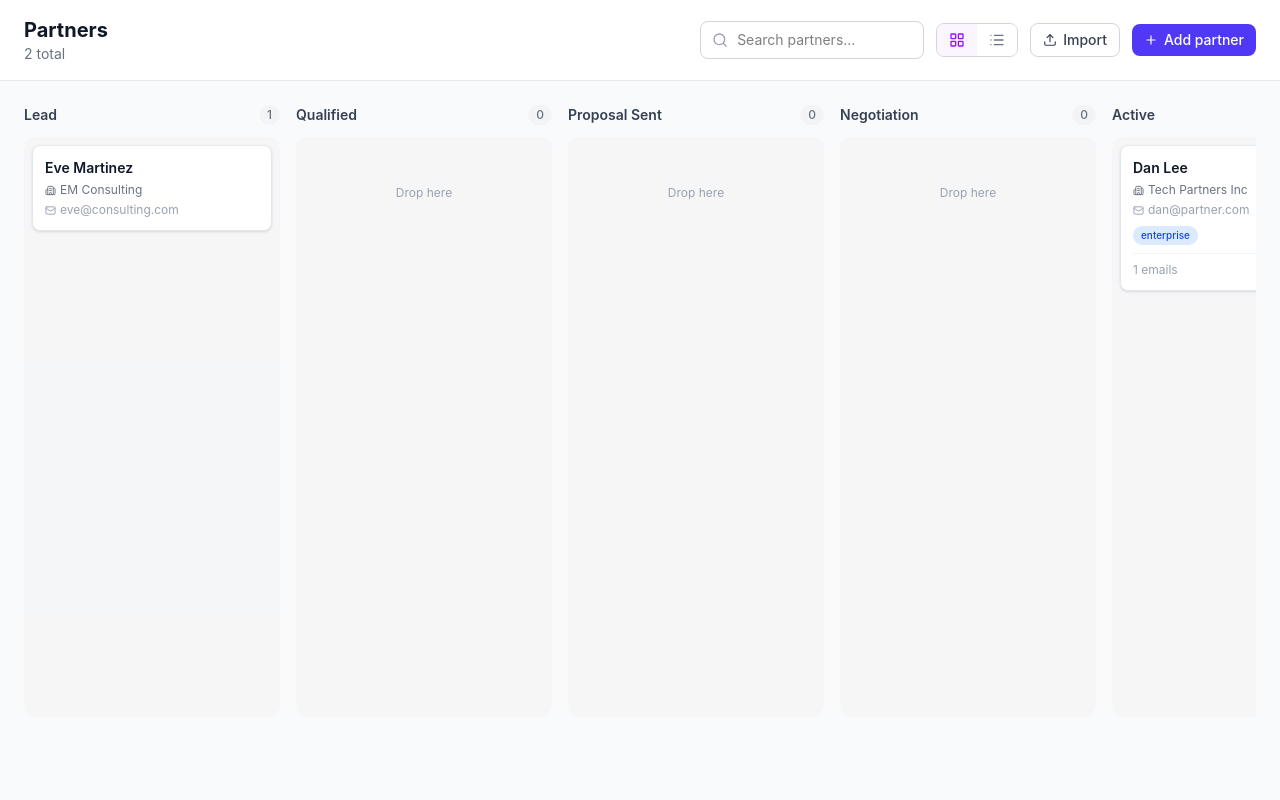
PartnersPage › opens partner detail when clicking row in list view
This screenshot has width=1280, height=800.
Click the button titled "List view".
click(997, 40)  # box [977, 24, 1017, 56]
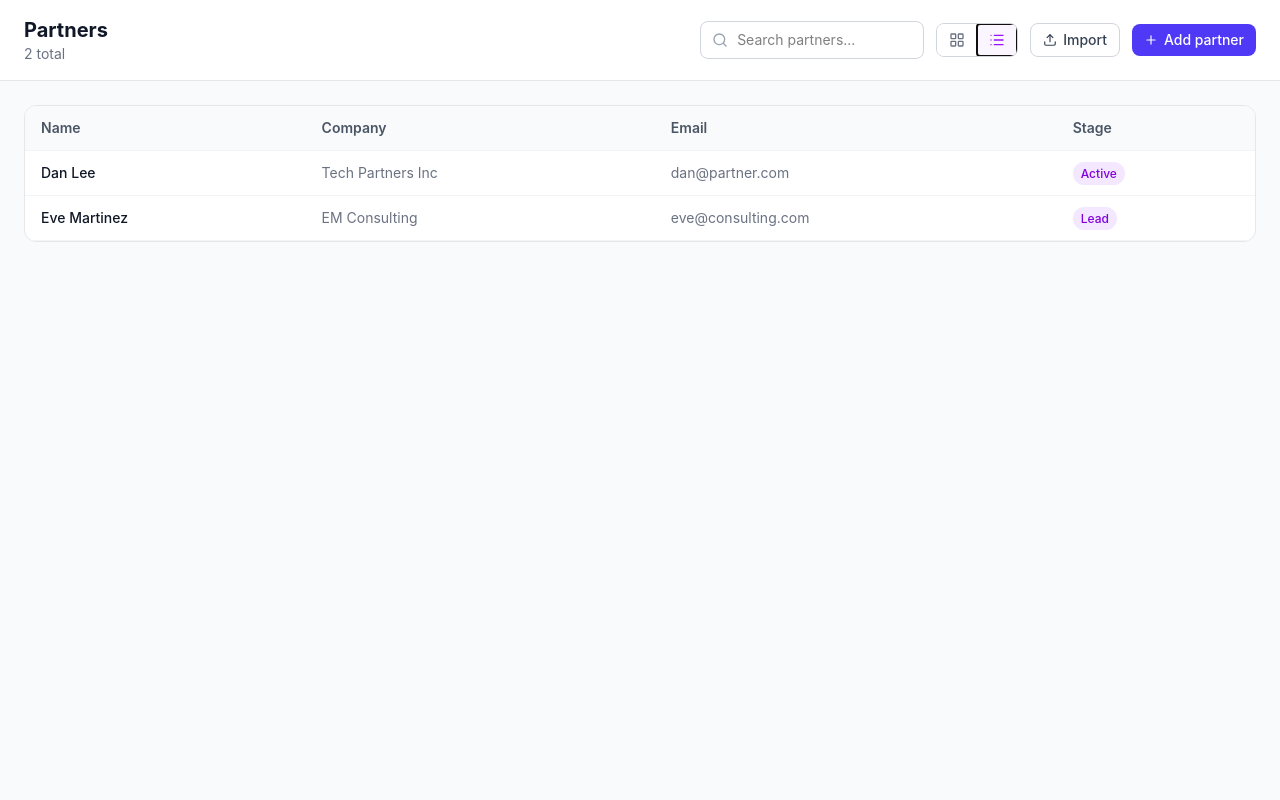
Click the text "Dan Lee".
click(54, 172)  # box [25, 150, 306, 196]
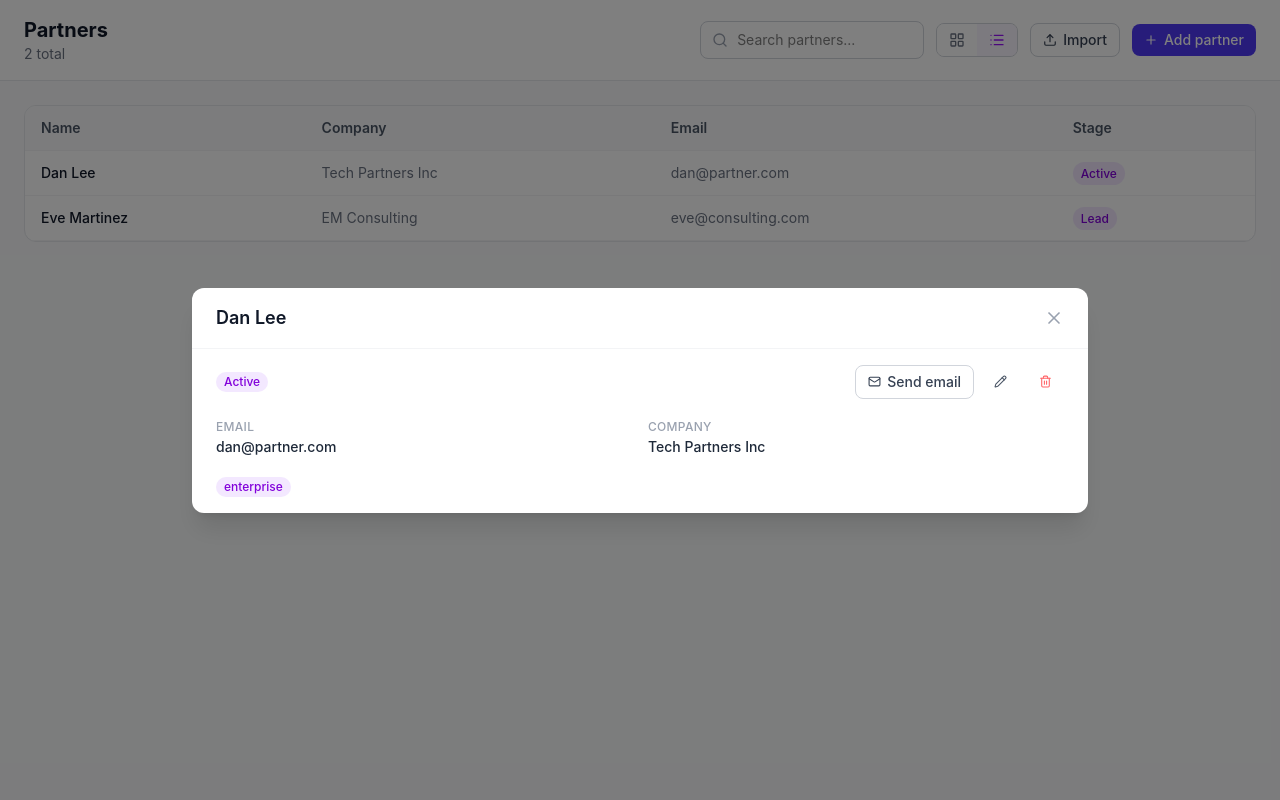
expect the dialog is shown: met, box [192, 288, 1088, 512]
